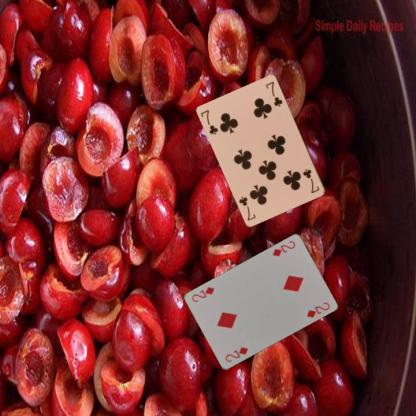2d: (222, 344, 250, 364), (270, 239, 296, 258)
7c: (198, 108, 220, 136), (300, 166, 320, 195)
